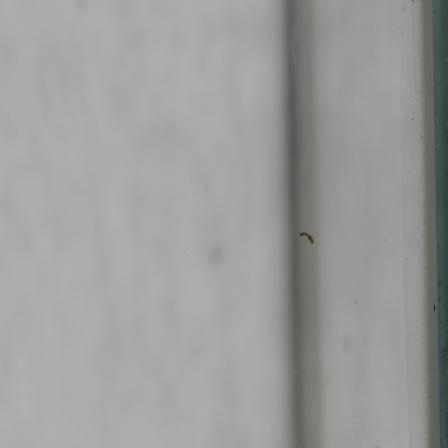Jentik-Nyamuk: (294, 227, 317, 249)
